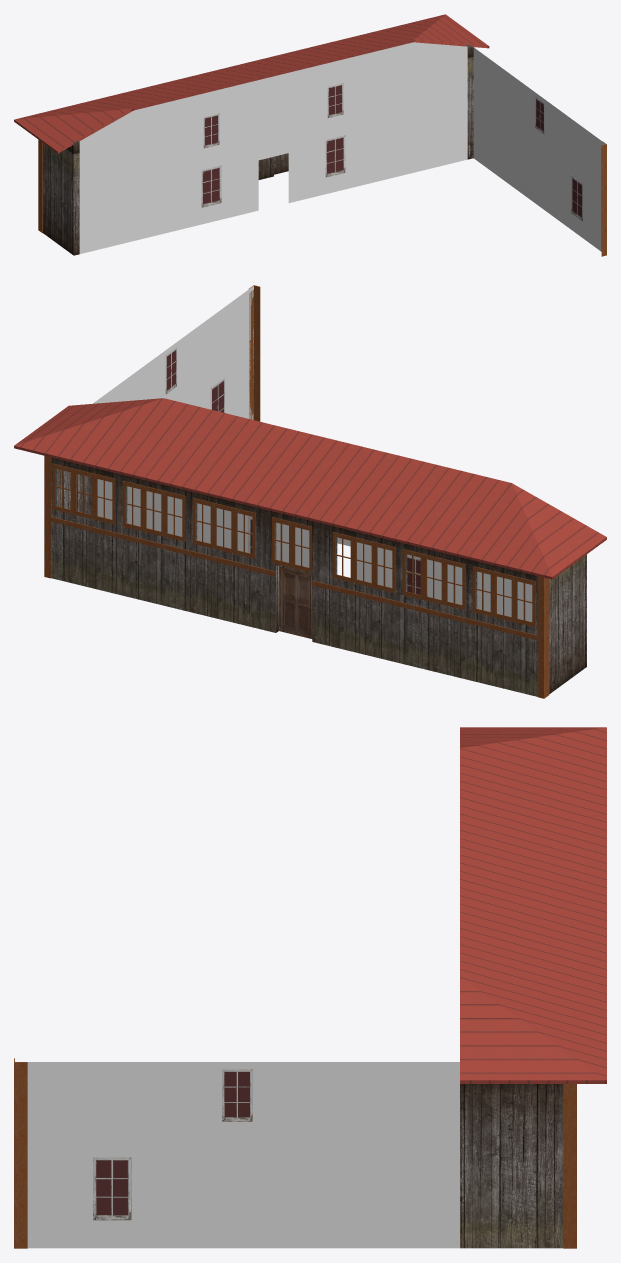
Rendered from cami_cutted.fbx.
The picture shows the model from 3 angles, top to bottom: view 1: azimuth 30°, elevation 25°; view 2: azimuth 150°, elevation 25°; view 3: azimuth 270°, elevation 25°; orthographic projection. The views are drawn at different scales.
Parts seen in each view (by area): view 1: Object_3; view 2: Object_3; view 3: Object_3.
Part boxes in pixels (bbox=[...]): Object_3: bbox=[14, 14, 606, 256]; Object_3: bbox=[14, 285, 606, 698]; Object_3: bbox=[14, 727, 606, 1248].
Bounding box in the file's own units: 2160 × 1533 × 634.
6 materials, 5 textured.
